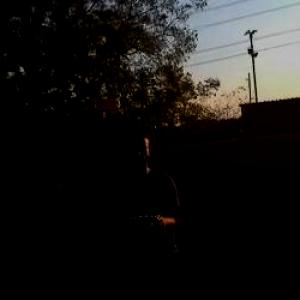follow: (104, 112, 185, 298)
